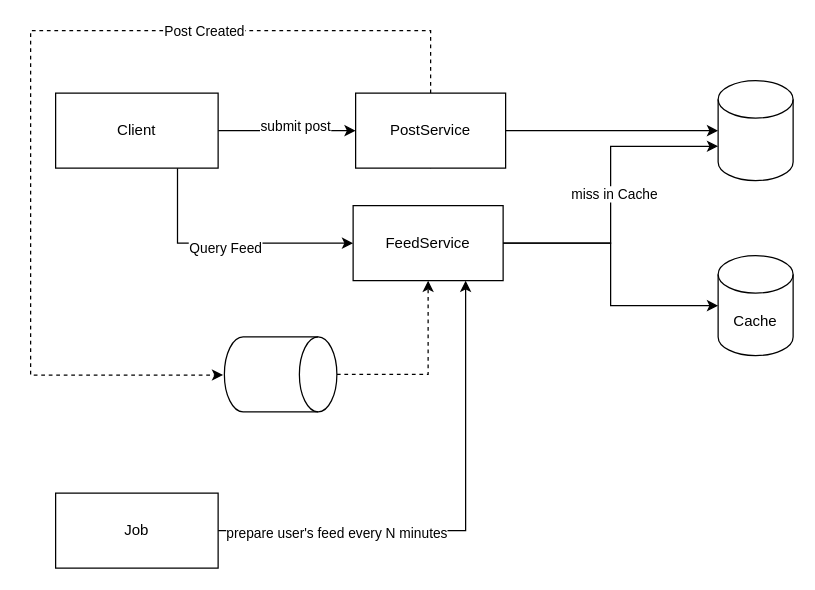
This 815x590 diagram has some shape labels left out. Here are the shapes that lost their labels. From the top down, the centre of each, then its label:
At point 755,130: "DB".
At point 280,374: "MQ".
